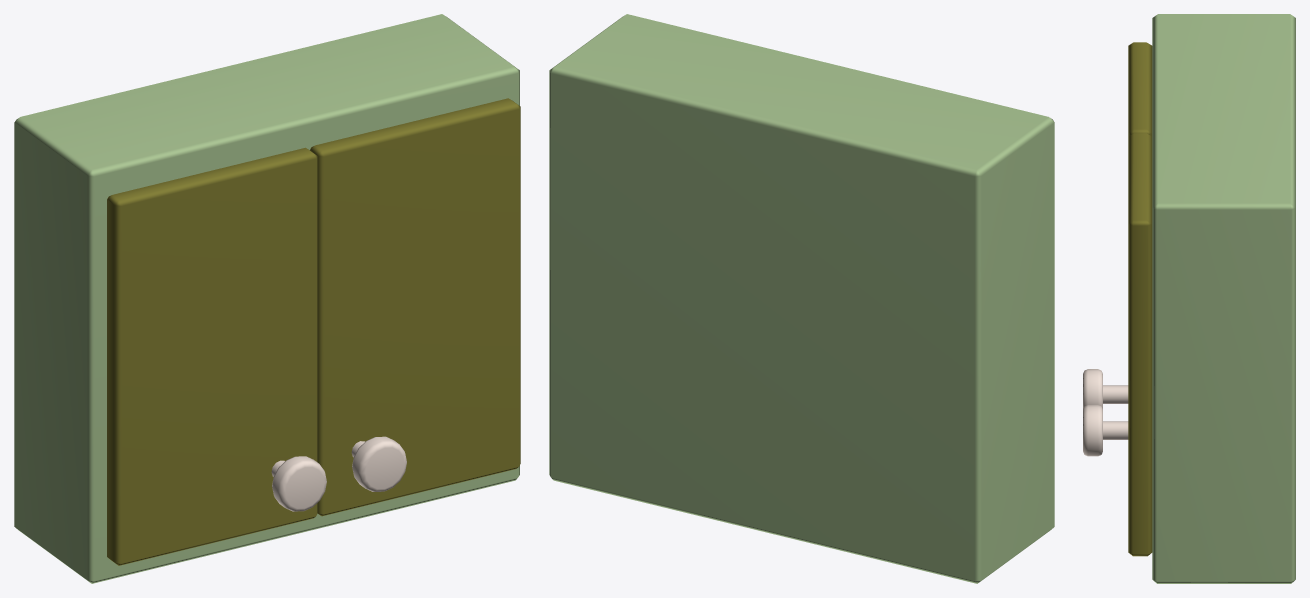
The model's file is Kitchen_Cabinet_6.glb.
3 renders of one model, left to right at view 1: azimuth 30°, elevation 25°; view 2: azimuth 150°, elevation 25°; view 3: azimuth 270°, elevation 25°, orthographic. The views are drawn at different scales.
Visible parts, largest first — view 1: Kitchen_Cabinet_6; view 2: Kitchen_Cabinet_6; view 3: Kitchen_Cabinet_6.
Part boxes in pixels (box(x1,y1,x2,y2)): Kitchen_Cabinet_6: box(14, 14, 520, 583); Kitchen_Cabinet_6: box(549, 14, 1054, 583); Kitchen_Cabinet_6: box(1083, 14, 1295, 583).
Size of the model in its own units: 1.06 by 0.9689 by 0.4917.
Materials: 1 (1 with a texture image).
